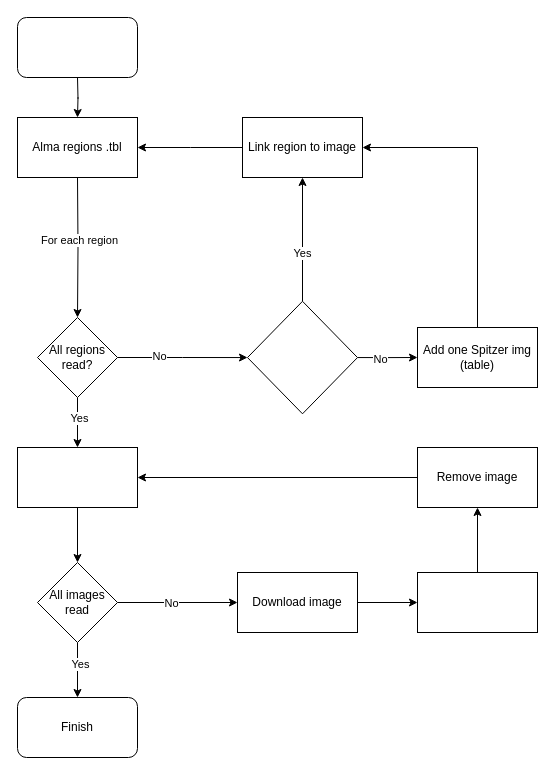
The diagram is 555 pixels wide and 775 high, and some of its shapes have lost their labels. The shapes that lost their labels are listed below. From the top down, each one's centre as x and y in pixels, then its label:
At point 77,47: "Start".
At point 302,357: "Is there already a Spitzer image for this region?".
At point 77,477: "SPITZER IMG .tbl".
At point 477,602: "Perform cutouts for each region inside the image".
